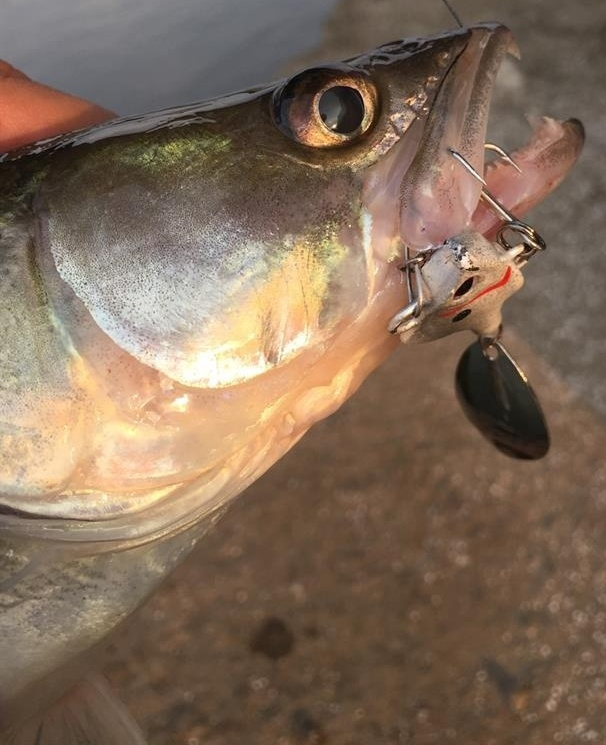Sander lucioperca: (1, 20, 586, 745)
